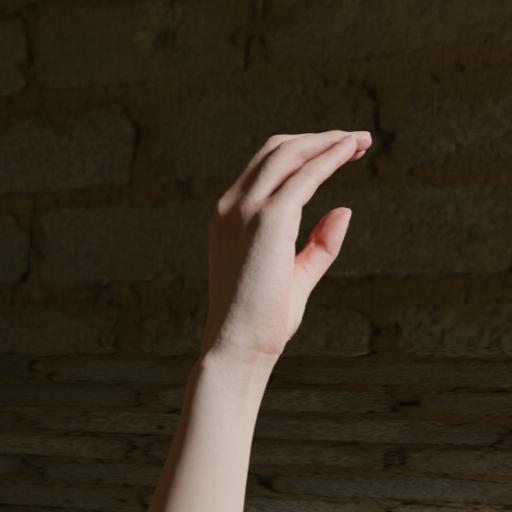C: (197, 130, 375, 348)
